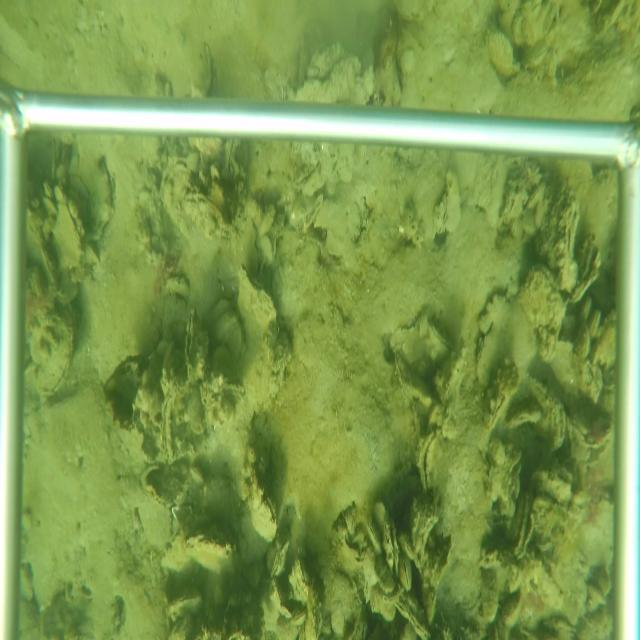Oyster-Closed: (34, 303, 75, 394), (185, 533, 235, 577), (395, 601, 431, 639), (164, 583, 201, 619), (581, 415, 614, 450), (427, 316, 452, 356), (39, 245, 60, 287), (394, 351, 412, 397), (271, 539, 290, 577), (575, 321, 592, 360), (365, 518, 382, 556), (225, 139, 240, 179), (400, 551, 413, 593), (30, 262, 45, 296), (590, 306, 602, 337), (579, 297, 592, 323), (291, 609, 306, 625)
Oyster-Indeterminate: (235, 261, 282, 353), (51, 199, 85, 273), (187, 40, 214, 97)
Oyster-Open: (181, 308, 211, 384), (414, 430, 443, 489), (247, 497, 278, 544), (512, 489, 530, 558), (382, 516, 399, 574)
